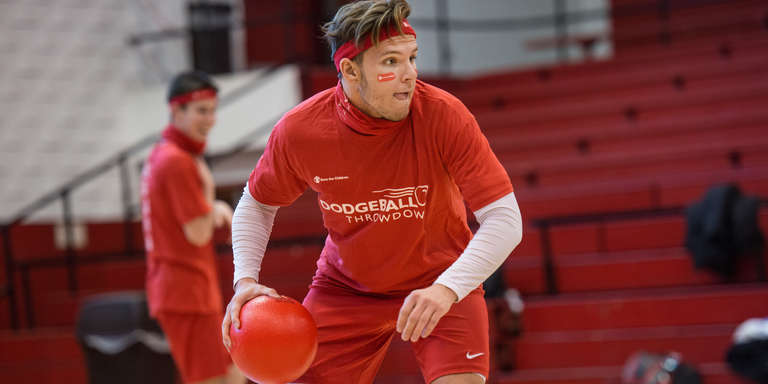red ball: (223, 290, 322, 383)
